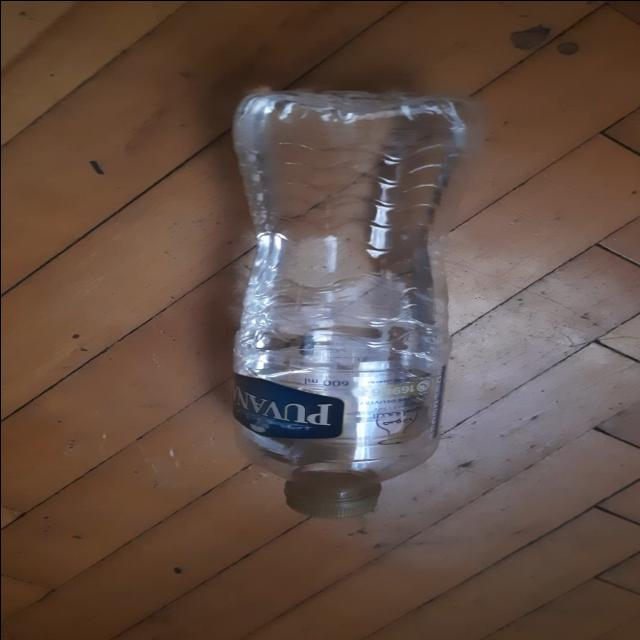Plastic: (230, 85, 471, 517)
